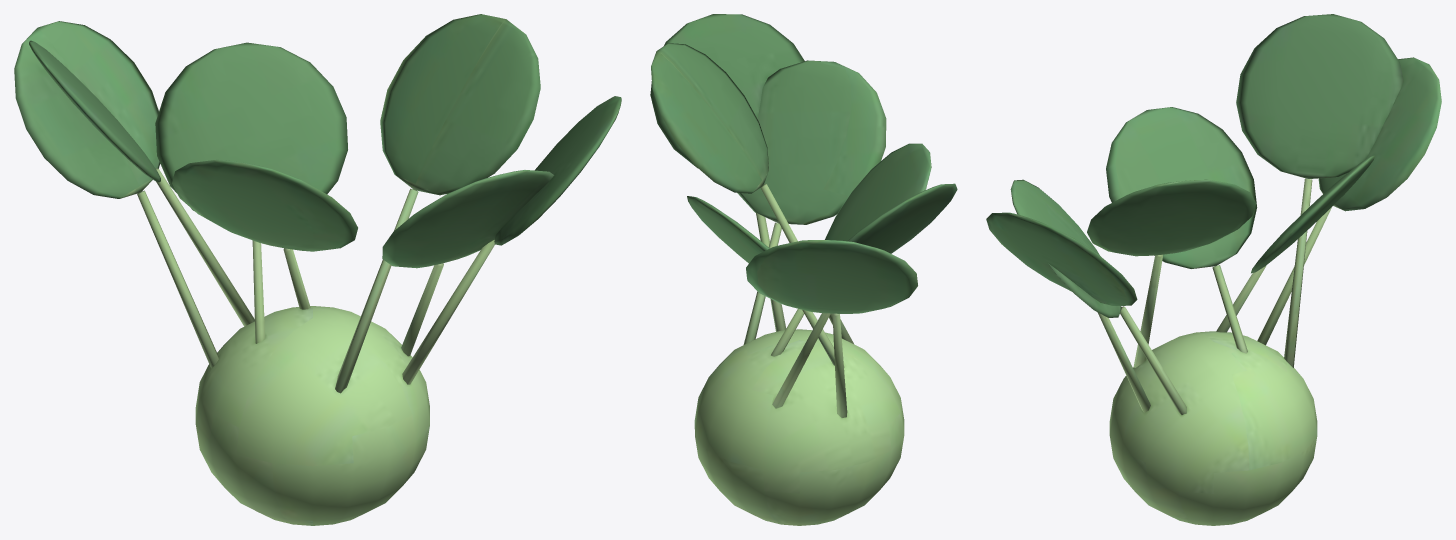
File: crop_kohlrabi.glb
3 renders of one model, left to right at view 1: azimuth 30°, elevation 25°; view 2: azimuth 150°, elevation 25°; view 3: azimuth 270°, elevation 25°, orthographic. The views are drawn at different scales.
Parts seen in each view (by area): view 1: crop_kohlrabi, fruit; view 2: crop_kohlrabi, fruit; view 3: crop_kohlrabi, fruit.
Part boxes in pixels (x1,y1,x2,y2): crop_kohlrabi: (14,14,621,393); fruit: (195,306,429,525); crop_kohlrabi: (650,14,957,417); fruit: (694,329,904,525); crop_kohlrabi: (986,14,1441,414); fruit: (1109,331,1317,525).
Size of the model in its own units: 0.2347 by 0.2366 by 0.238.
1 material, 1 textured.
